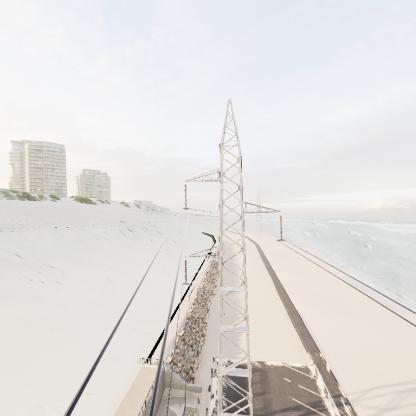tower: (178, 91, 288, 412)
